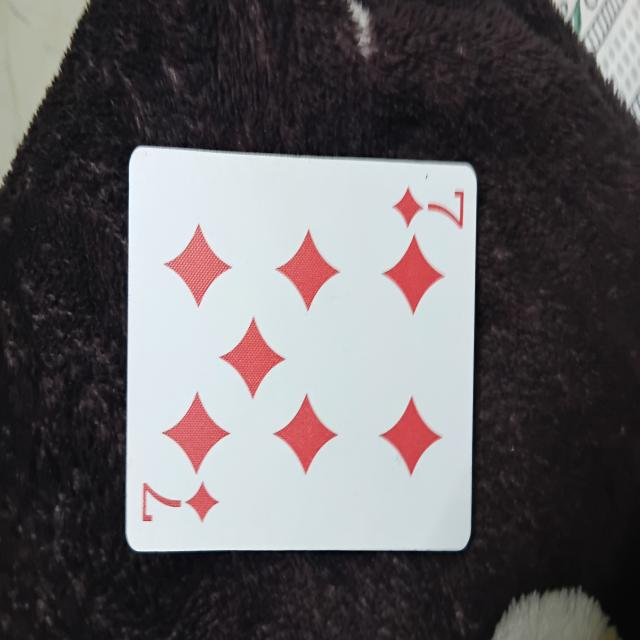7D: (124, 161, 476, 556)
